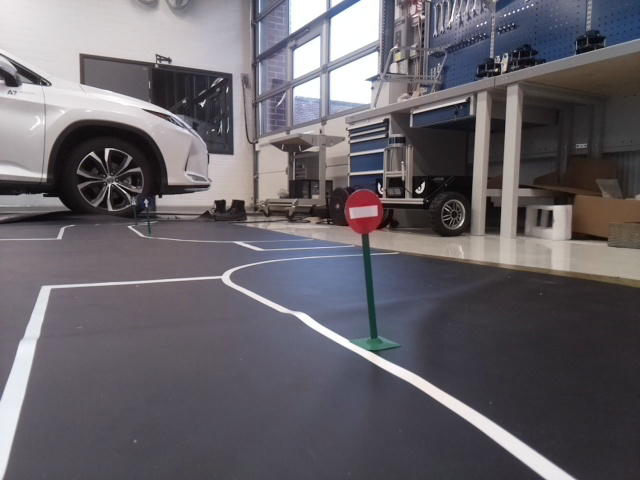NoEntry: (344, 191, 384, 234)
OneWay: (139, 196, 152, 209)
